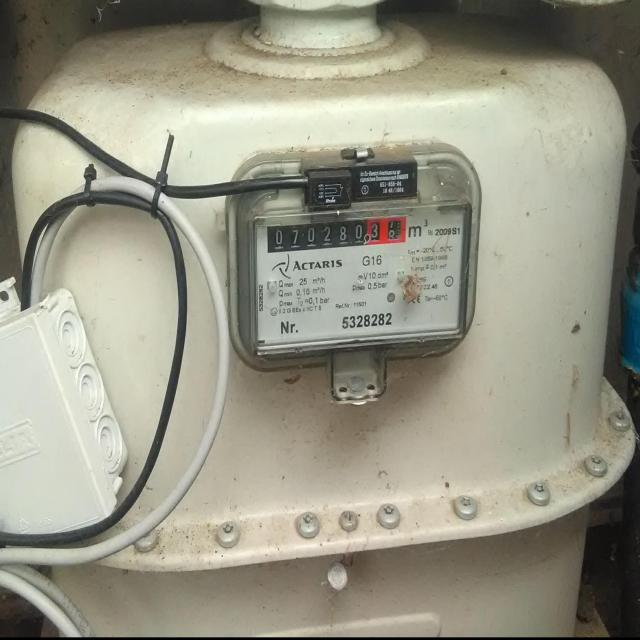gaz_meter: (249, 205, 468, 338)
indication: (265, 216, 405, 251)
